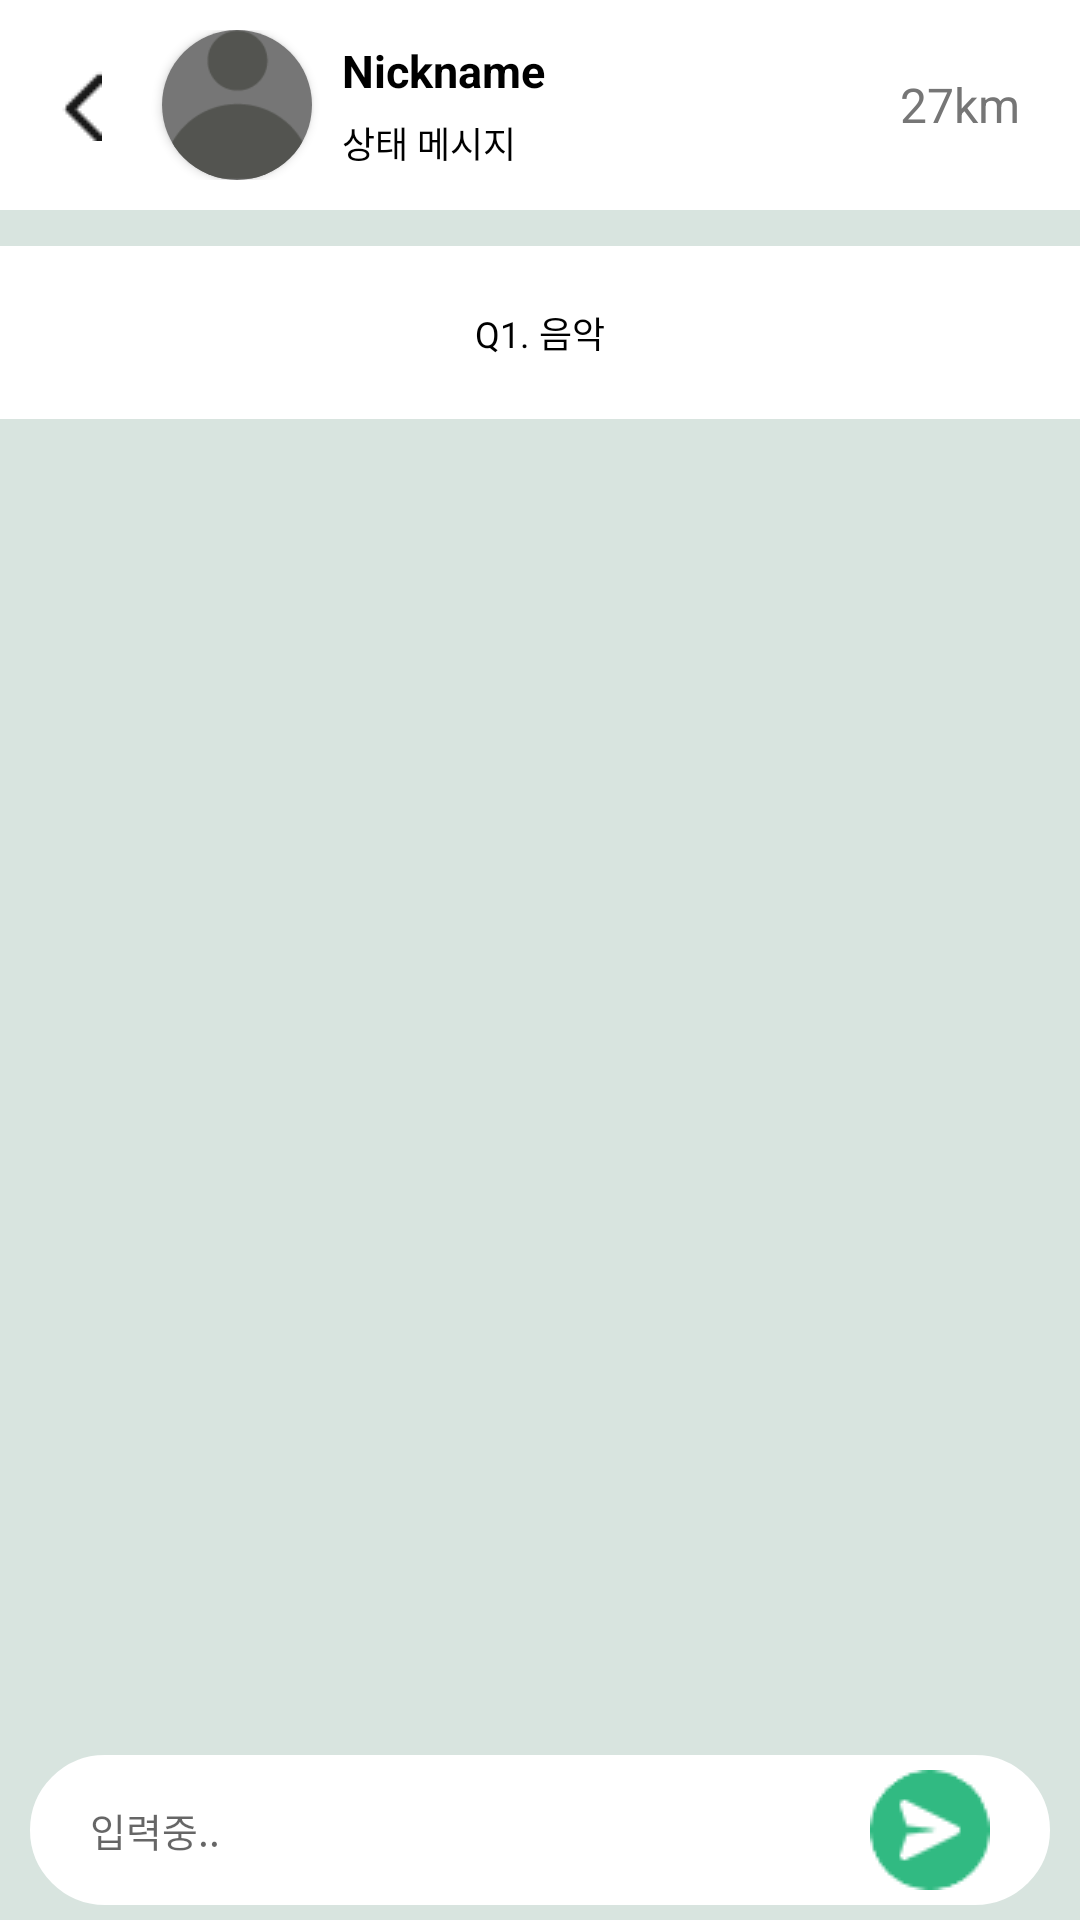

Named icons in this screenshot (1080px×1920px) and their centers, point (x, y):
back: point (83, 107)
